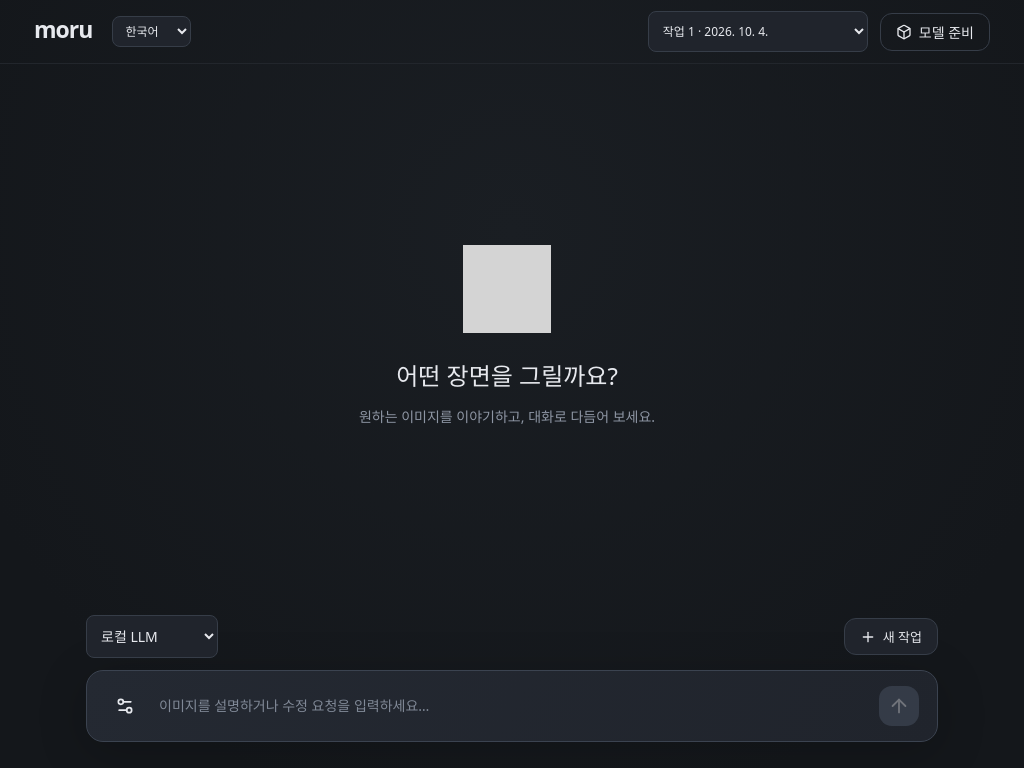
restores Aesthetic without requiring Turbo weights
The width and height of the screenshot is (1024, 768).
Expected: the heading "어떤 장면을 그릴까요?" is shown, [396,357,618,392]
Click the button named "생성 설정".
click(125, 706)  # box [105,686,145,726]
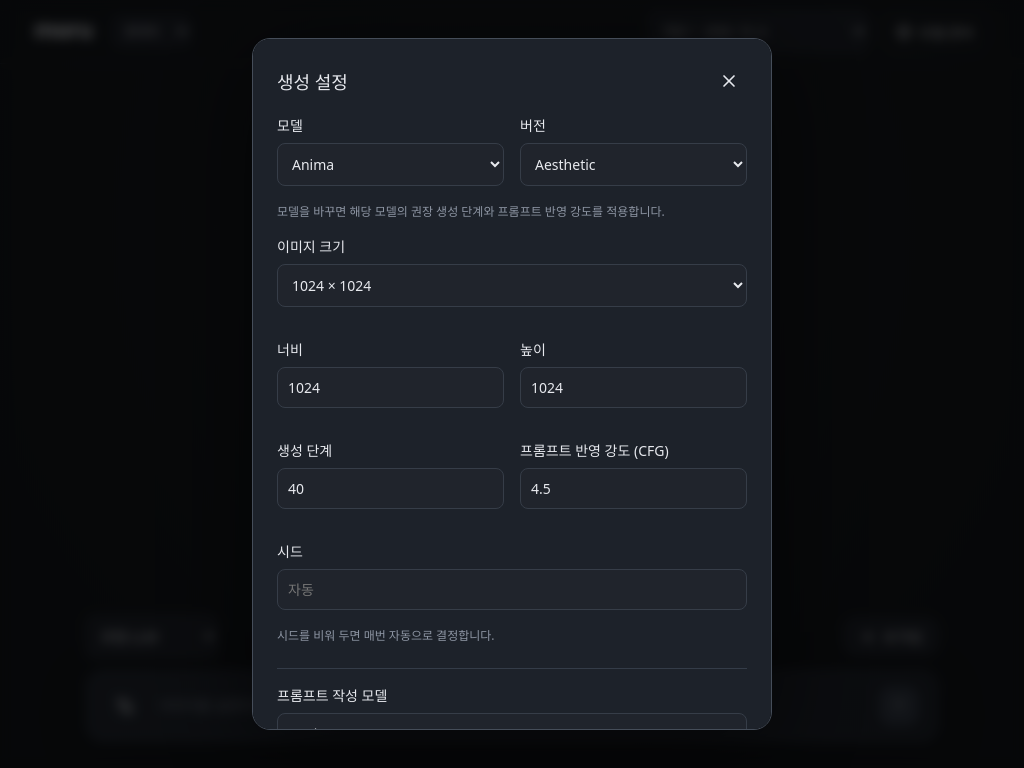
Result: the dropdown labelled "버전" shows "Aesthetic"
Result: the number field labelled "생성 단계" holds "40" at [277,468,504,509]
Select "Turbo" in the dropdown labelled "버전" at (634, 165), box [520,143,747,186]
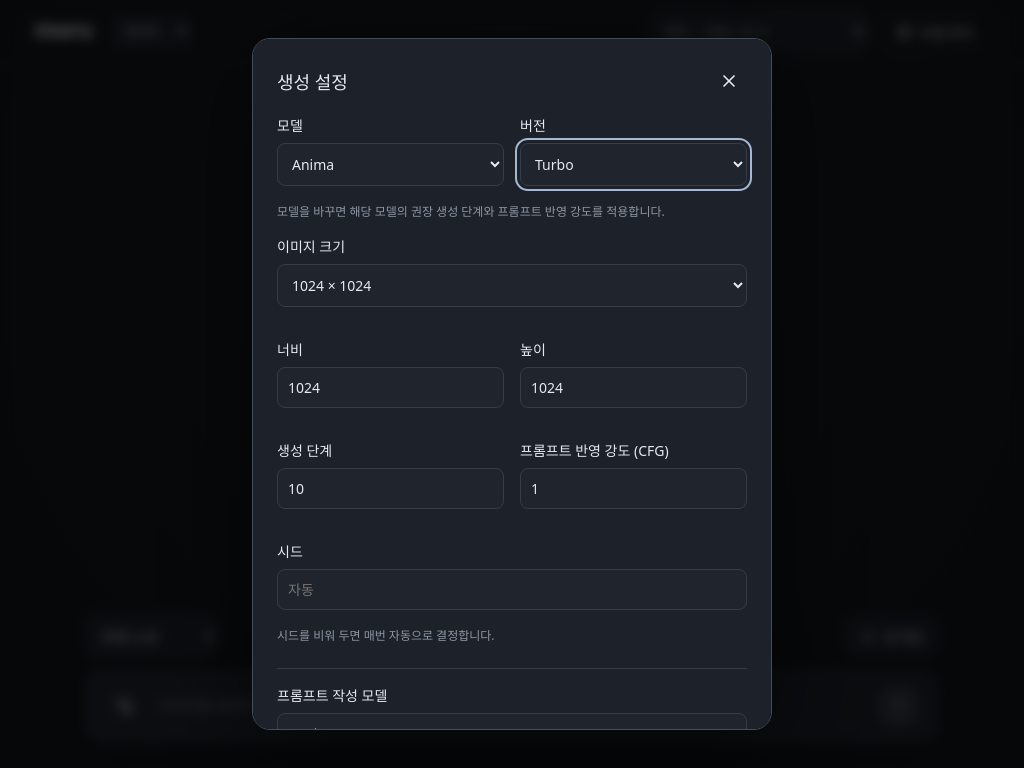
Result: the number field labelled "생성 단계" holds "10" at [277,468,504,509]
